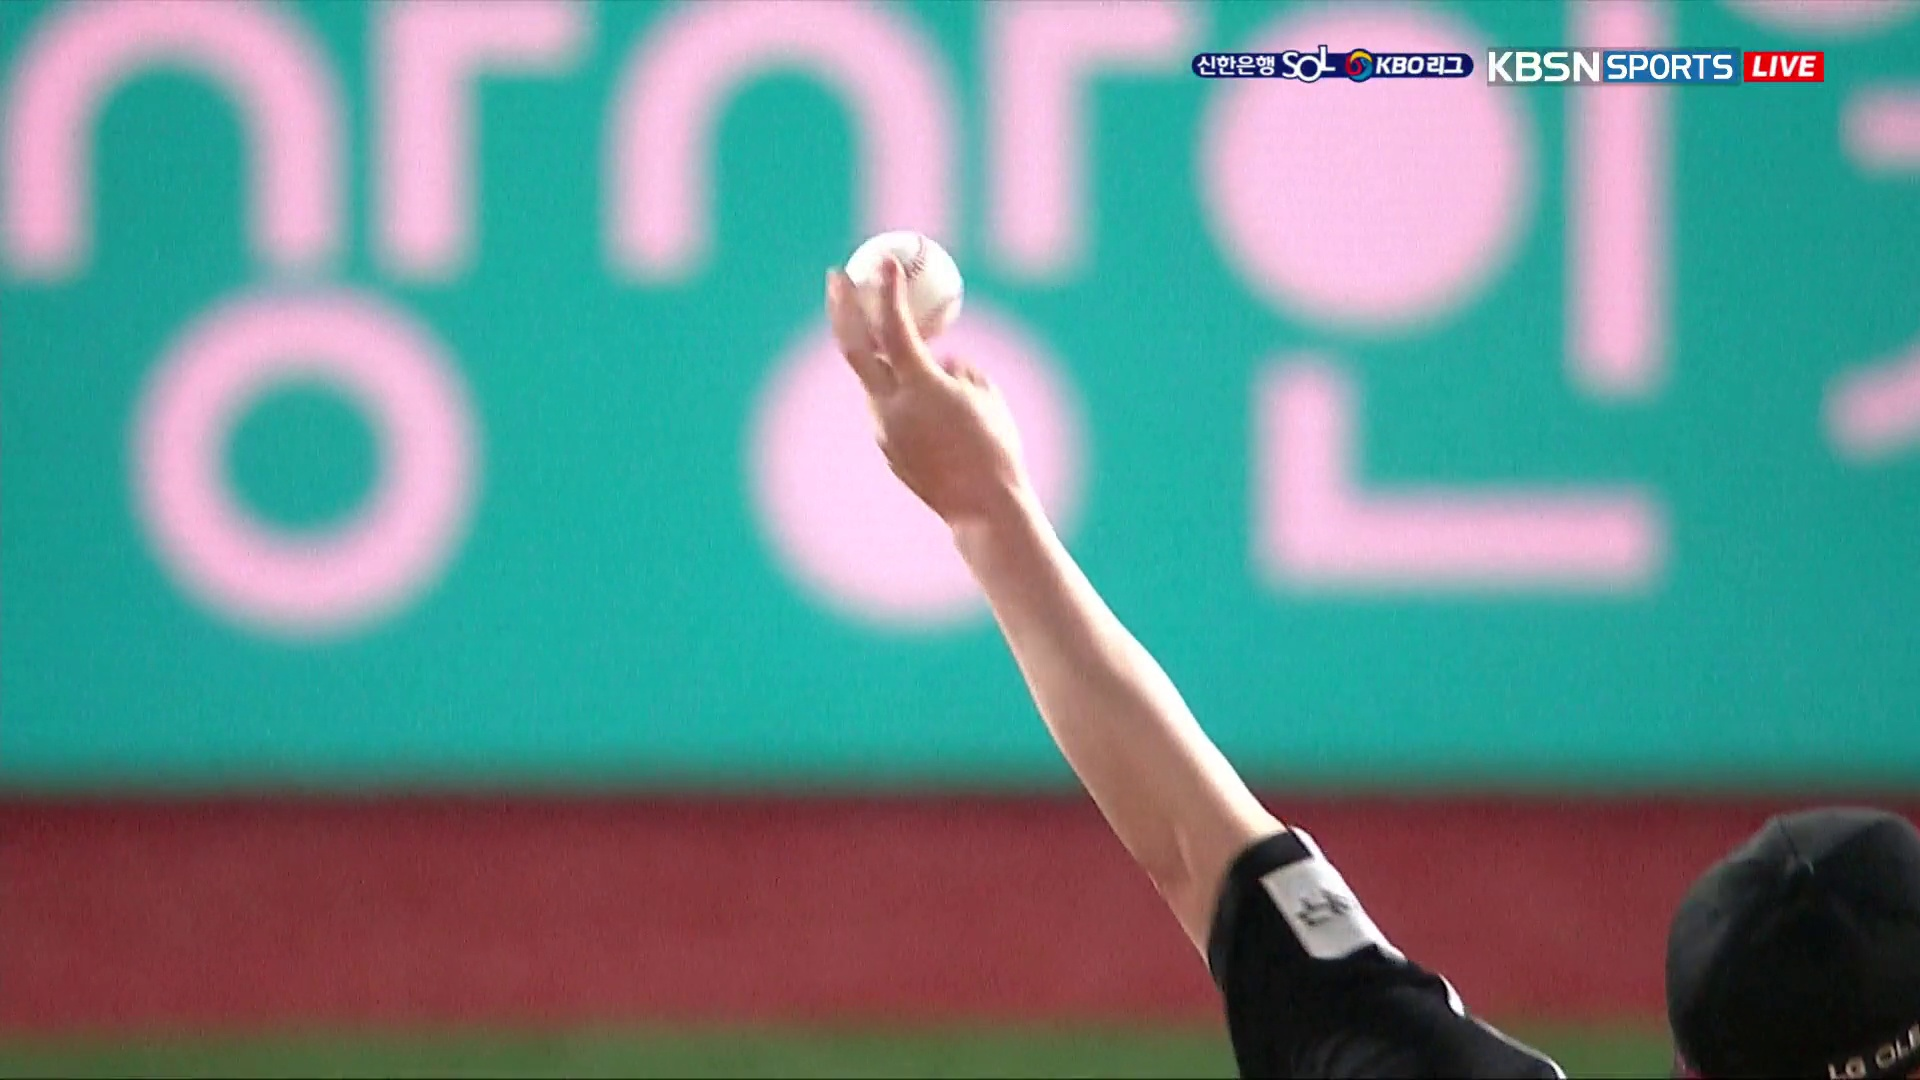zoomin_hand: (816, 225, 1313, 986)
